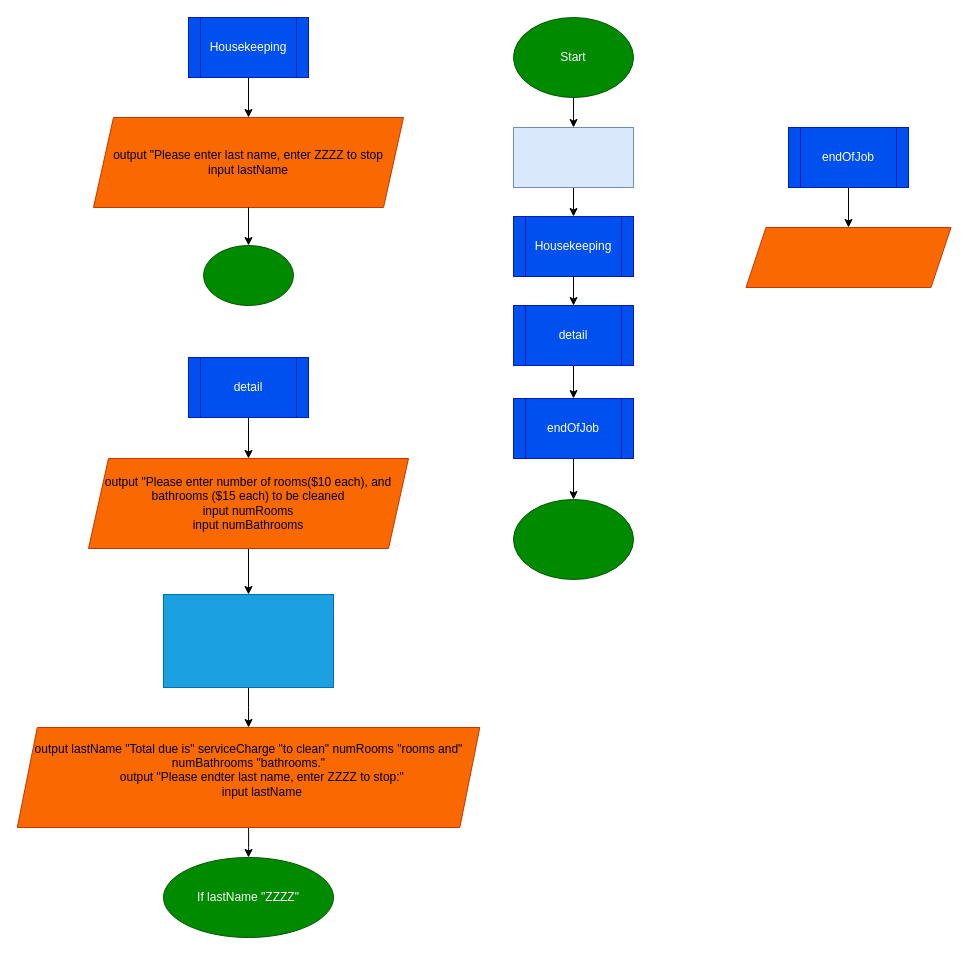
Image size: 969x955. Some labels were removed from this diagram. Here are the shapes that lost their labels. From the top down, the box of each, then its label:
(512, 126, 634, 188): Declarations: string lastName
(202, 244, 294, 306): return
(745, 226, 951, 288): output "Thank you for using this program
(512, 498, 634, 580): Stop
(162, 594, 334, 688): serviceCharge = numRooms times 10 plus numBathrooms times 15 plus 40
